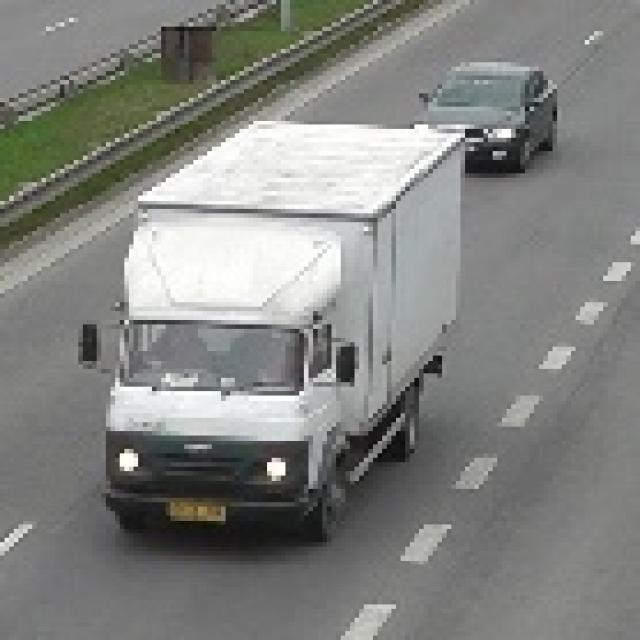car: (416, 54, 566, 175)
truck: (78, 111, 460, 538)
